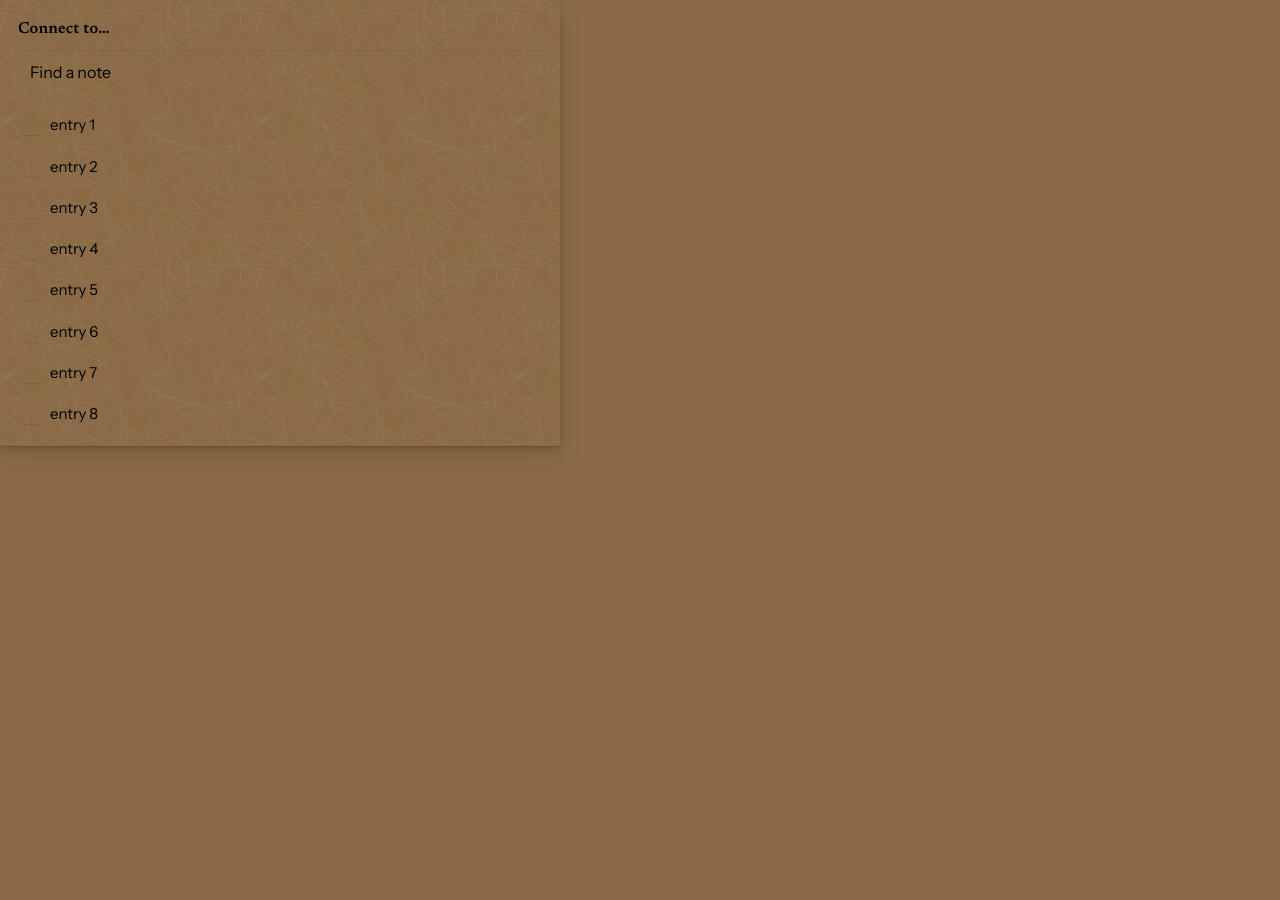
Test: Picker and its index › clearing the field shows the recent notes again
Type "entry 1999" into the dropdown at (280, 72), box [18,50,542,94]
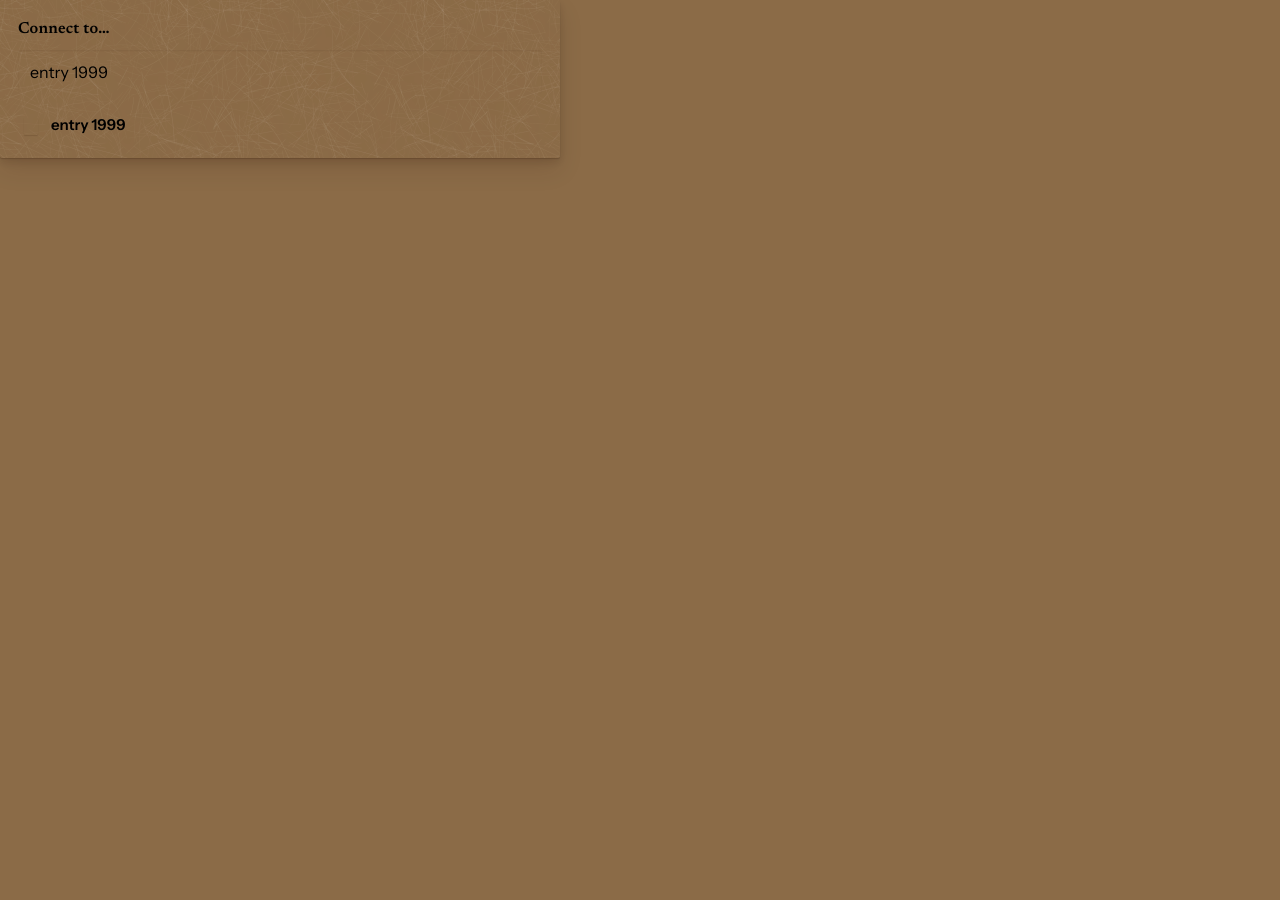
Clear the dropdown at (280, 72), box [18,50,542,94]
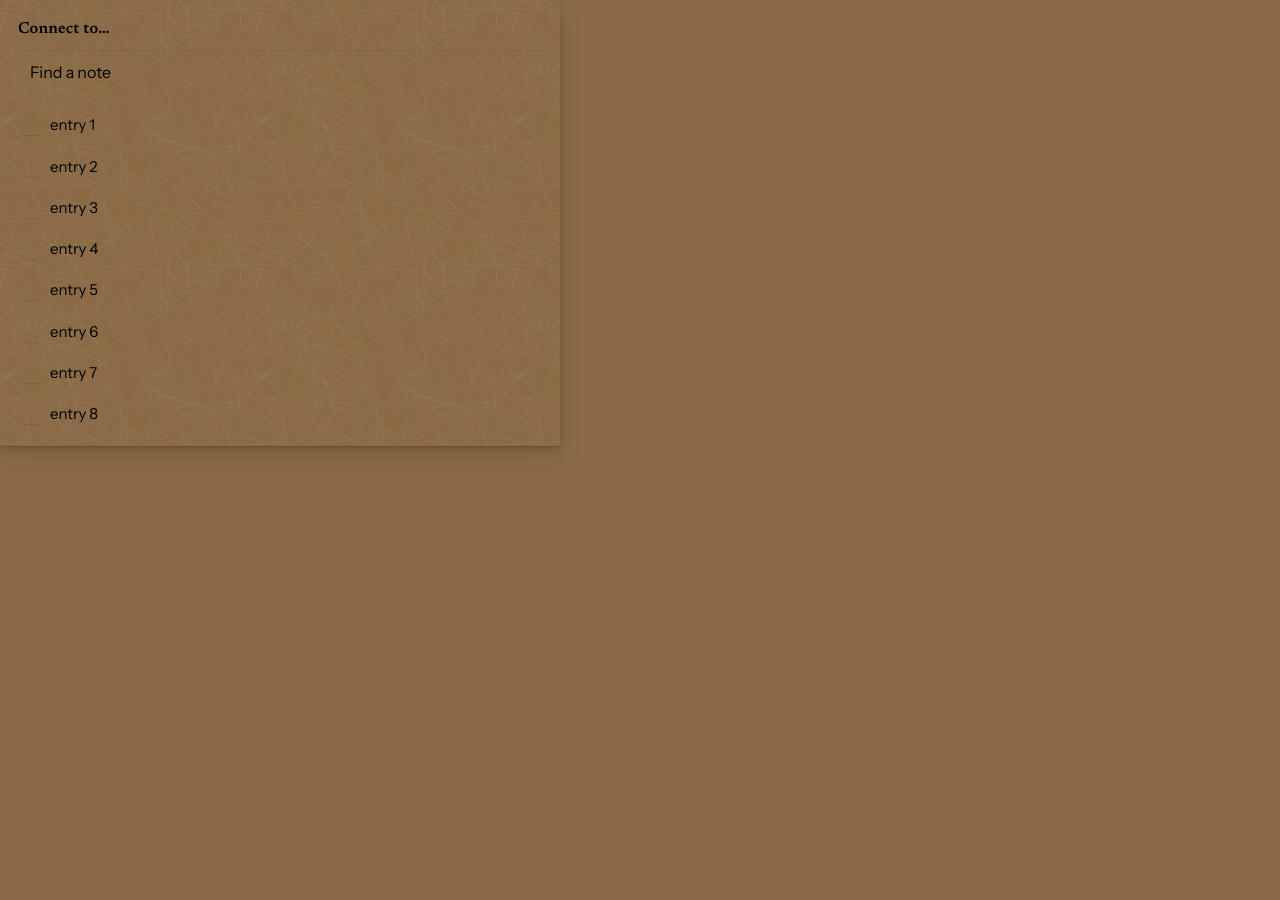
Result: the number of options is 8
